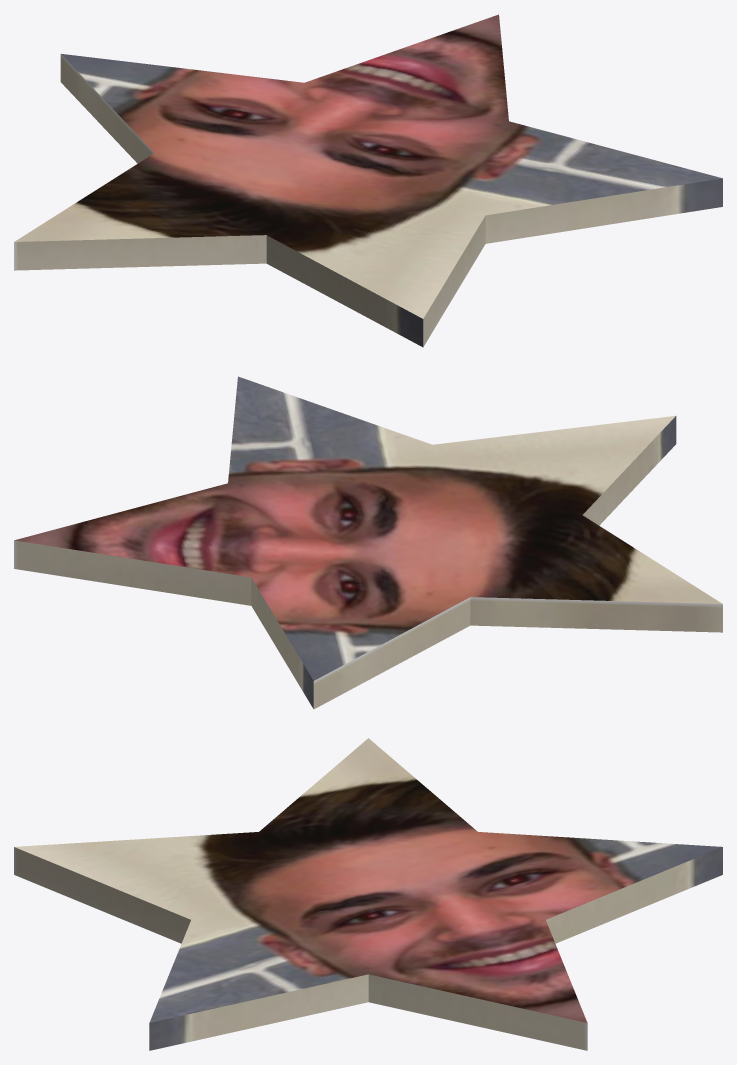
File: SimpleStar.obj
3 views of the same model, one above another, from view 1: azimuth 30°, elevation 25°; view 2: azimuth 150°, elevation 25°; view 3: azimuth 270°, elevation 25° (orthographic). The views are drawn at different scales.
Visible parts, largest first — view 1: Star; view 2: Star; view 3: Star.
Boxes of the visible parts, <box> form: Star: <box>14,14,722,347</box>; Star: <box>14,376,722,709</box>; Star: <box>14,738,722,1050</box>.
Bounding box in the file's own units: 1.81 × 0.0825 × 1.9.
2 materials, 2 textured.
